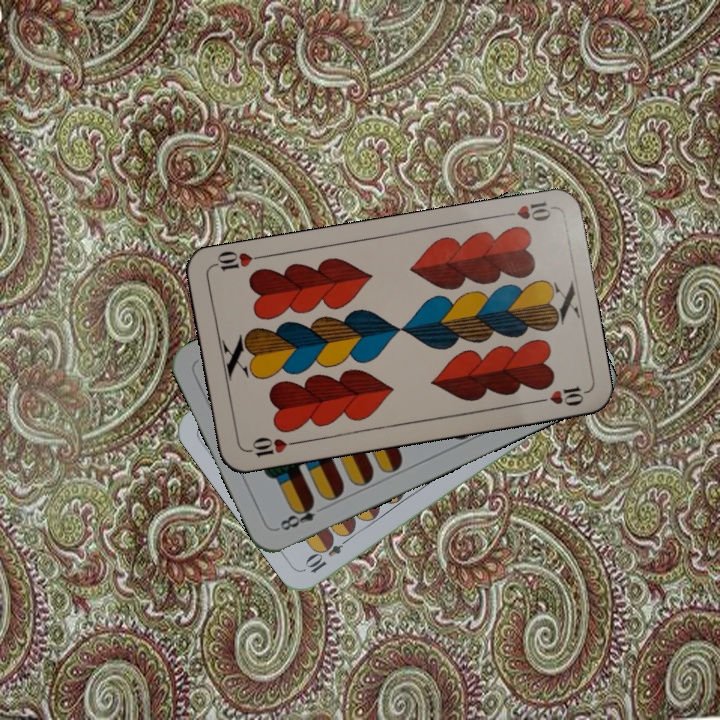E10: (302, 530, 354, 576)
E8: (273, 497, 319, 534)
H10: (242, 433, 301, 460), (496, 197, 555, 224)
